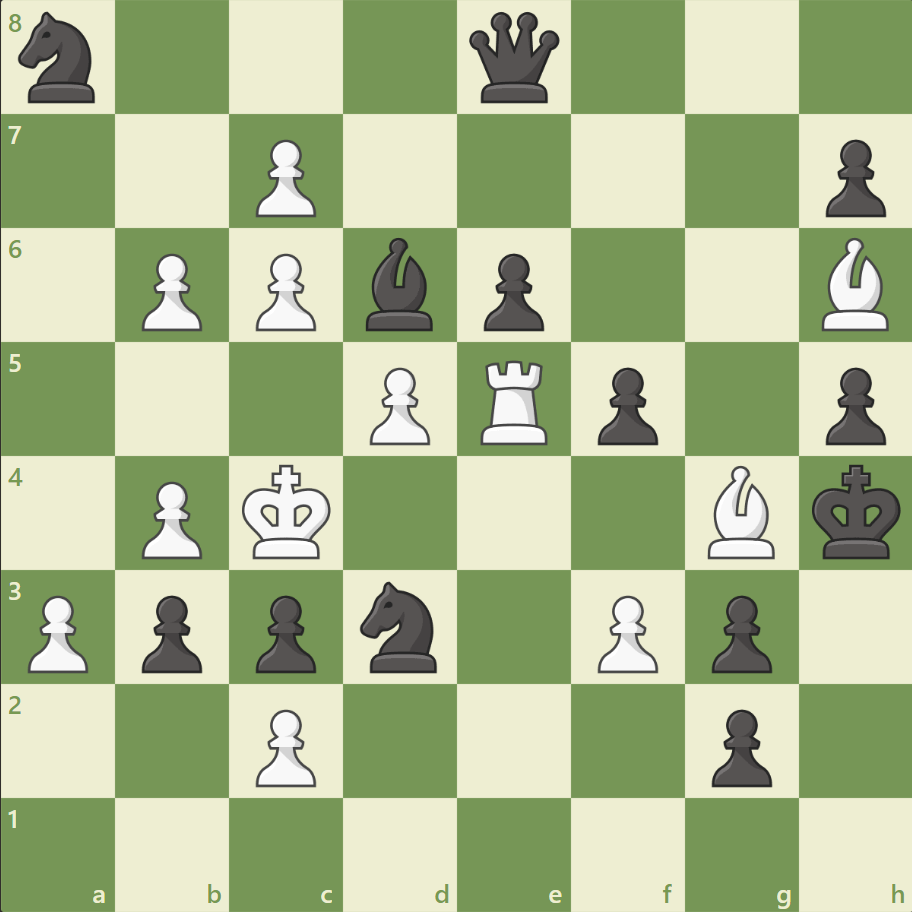B: (812, 233, 896, 336), (698, 460, 782, 563)
K: (238, 458, 338, 566)
P: (247, 132, 322, 223), (133, 246, 208, 337), (247, 246, 322, 337), (133, 473, 208, 564), (20, 586, 95, 677), (247, 700, 322, 791), (361, 359, 435, 450), (588, 586, 662, 677)
R: (473, 352, 556, 449)
b: (358, 233, 442, 336)
k: (806, 458, 906, 566)
n: (351, 575, 449, 677), (11, 7, 108, 110)
p: (474, 246, 549, 337), (133, 586, 208, 677), (247, 586, 322, 677), (701, 586, 776, 677), (701, 700, 776, 791), (815, 132, 889, 223), (588, 359, 662, 450), (815, 359, 889, 450)
q: (464, 9, 563, 108)
